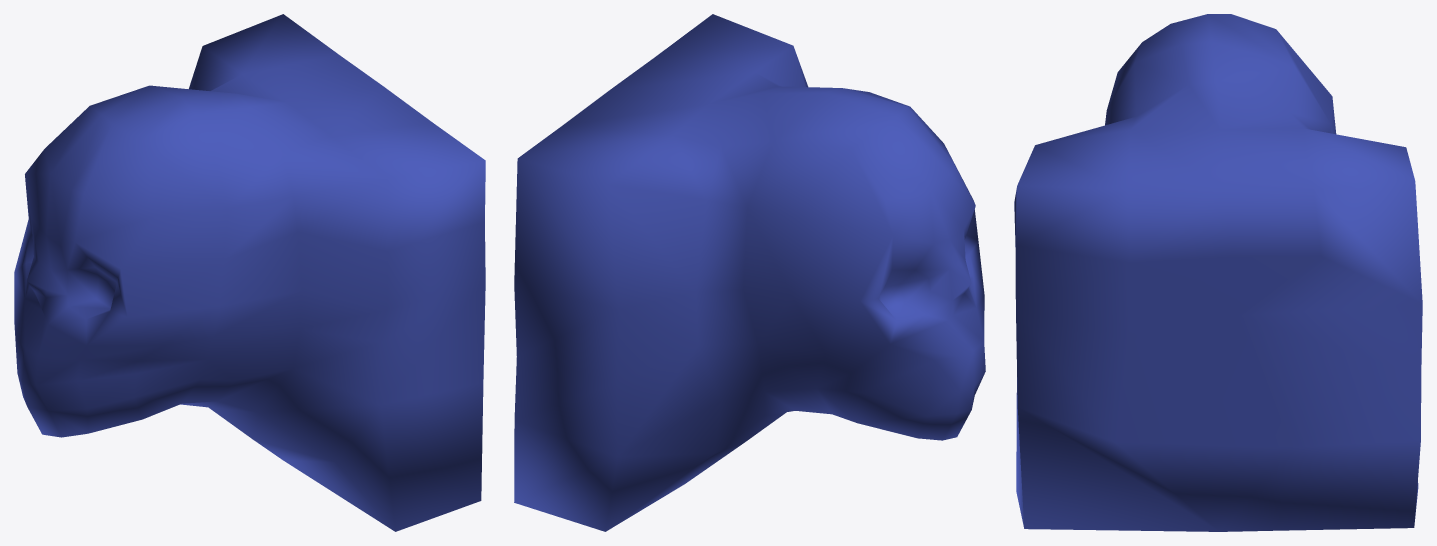
The model's file is Statue_05_Lod1.fbx.
3 views of the same model, side by side, from view 1: azimuth 30°, elevation 25°; view 2: azimuth 150°, elevation 25°; view 3: azimuth 270°, elevation 25° (orthographic).
Visible parts, largest first — view 1: Statue_05_Lod1; view 2: Statue_05_Lod1; view 3: Statue_05_Lod1.
Part boxes in pixels (x1=…): Statue_05_Lod1: x1=14, y1=14, x2=485, y2=531; Statue_05_Lod1: x1=514, y1=14, x2=985, y2=531; Statue_05_Lod1: x1=1014, y1=14, x2=1422, y2=531.
Size of the model in its own units: 61.24 by 62.76 by 59.1.
